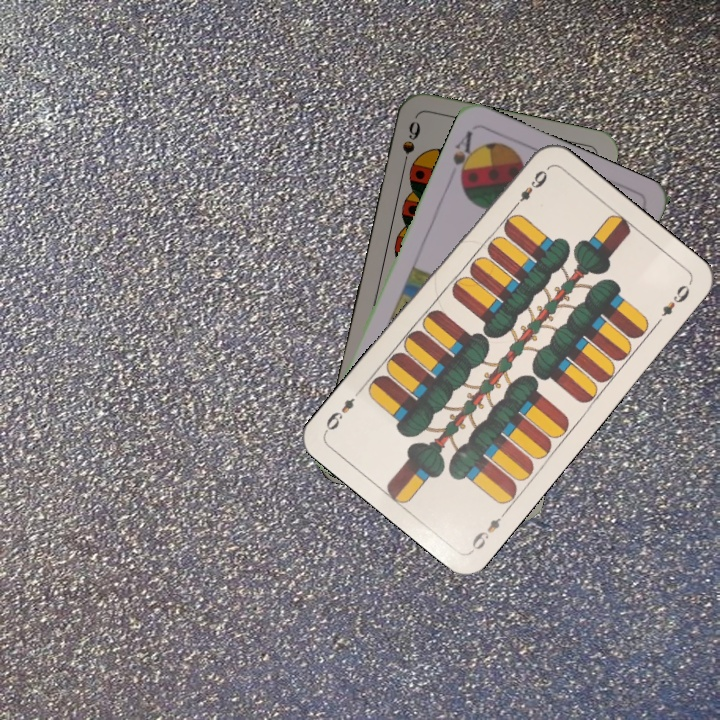E9: (508, 164, 551, 213), (467, 505, 510, 554)
S9: (398, 117, 423, 174)
SA: (448, 126, 480, 186)
